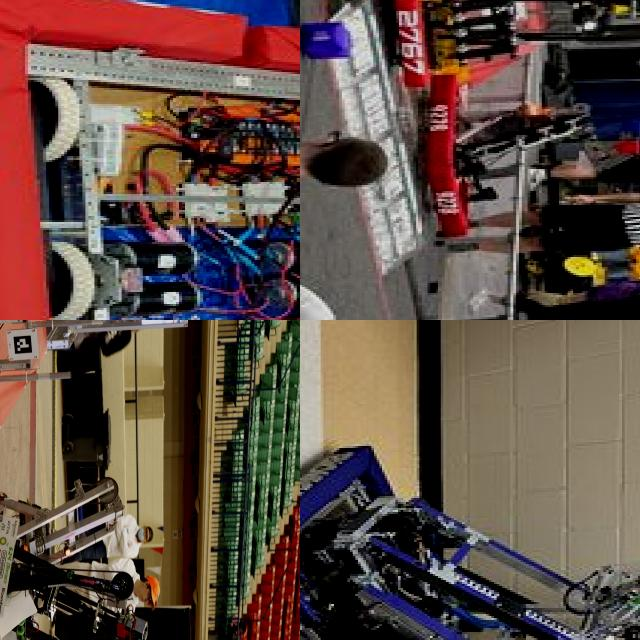FRC-Robots: (0, 0, 300, 320), (300, 441, 640, 640), (0, 449, 148, 640), (434, 81, 582, 259), (383, 0, 640, 99)
